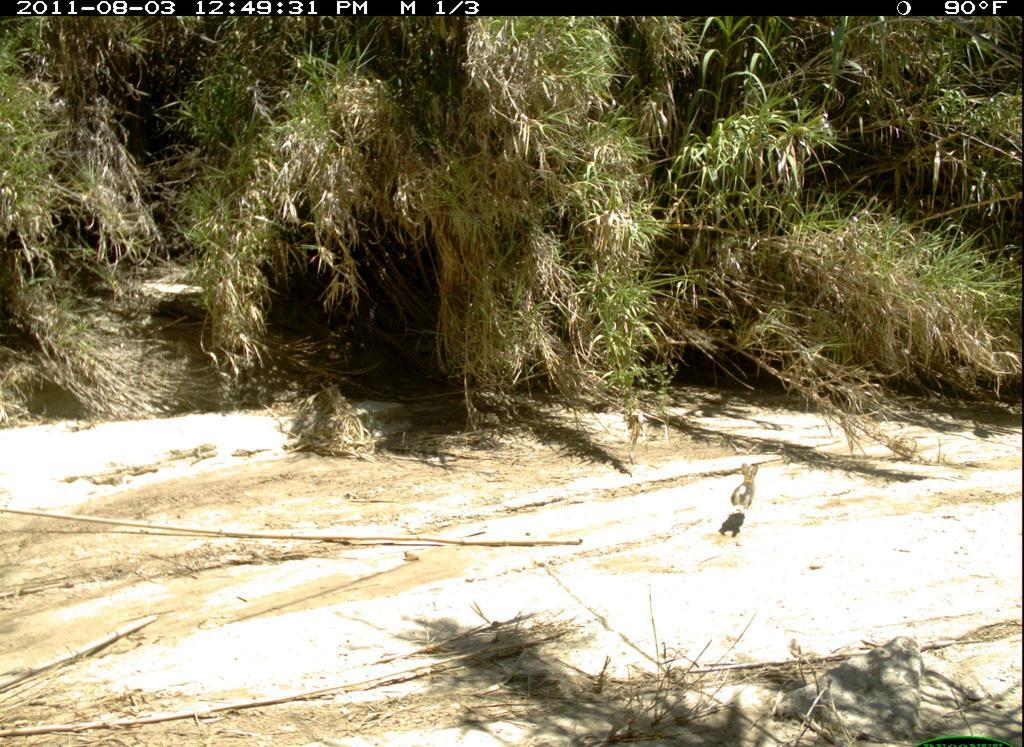rabbit: (722, 459, 769, 521)
